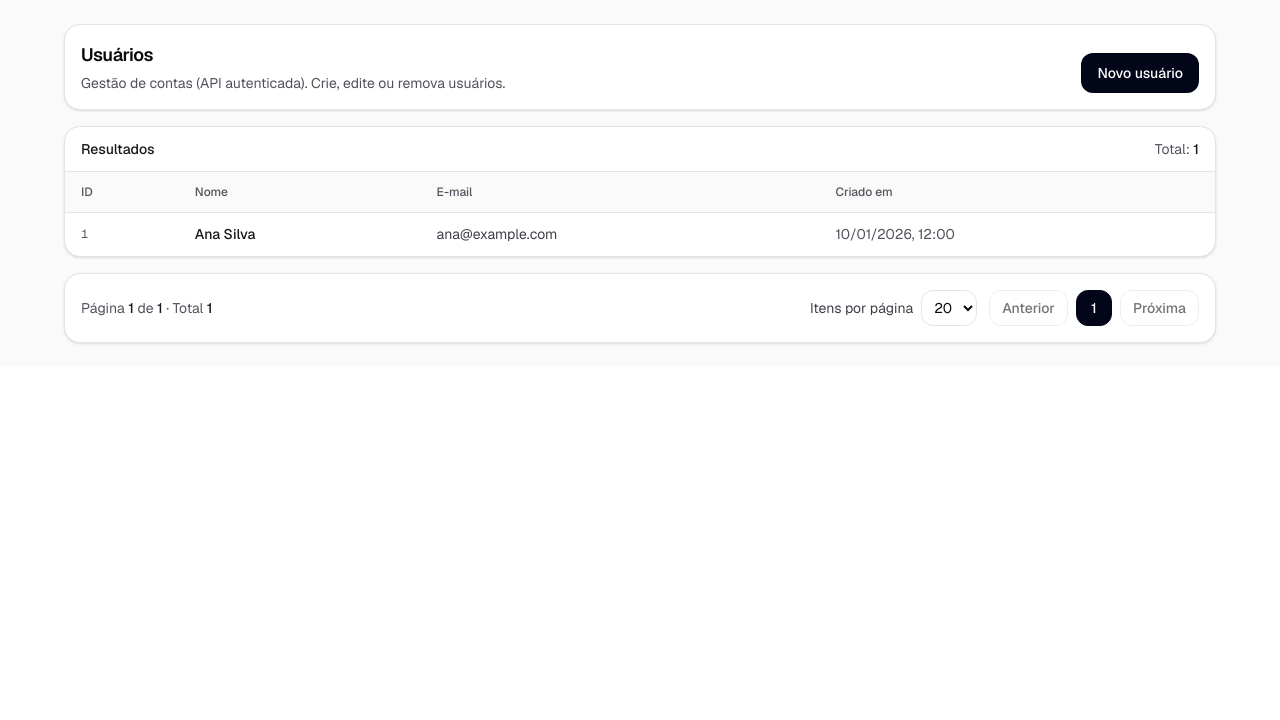
it: UsersPage (UI) › deve editar usuário a partir do detalhe
Click the text "Ana Silva" at (225, 234), box [179,212,421,256]
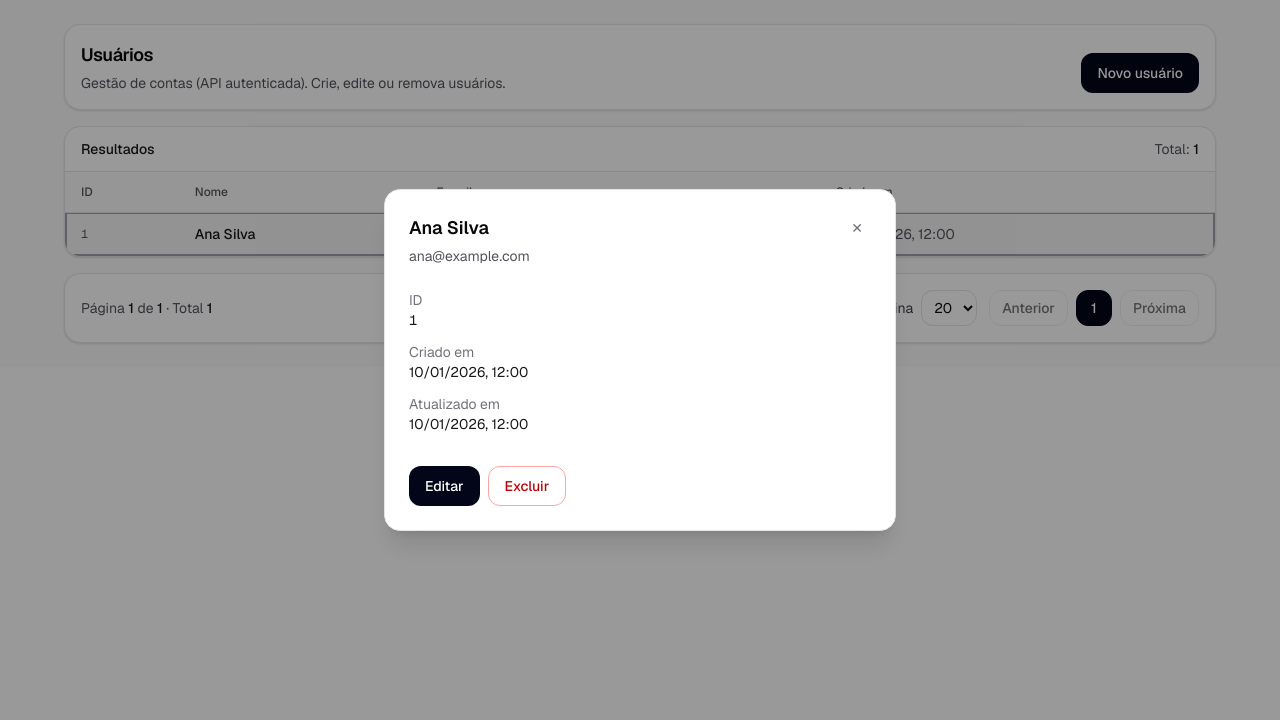
Click the button "Editar" at (444, 486), box [409,466,480,506]
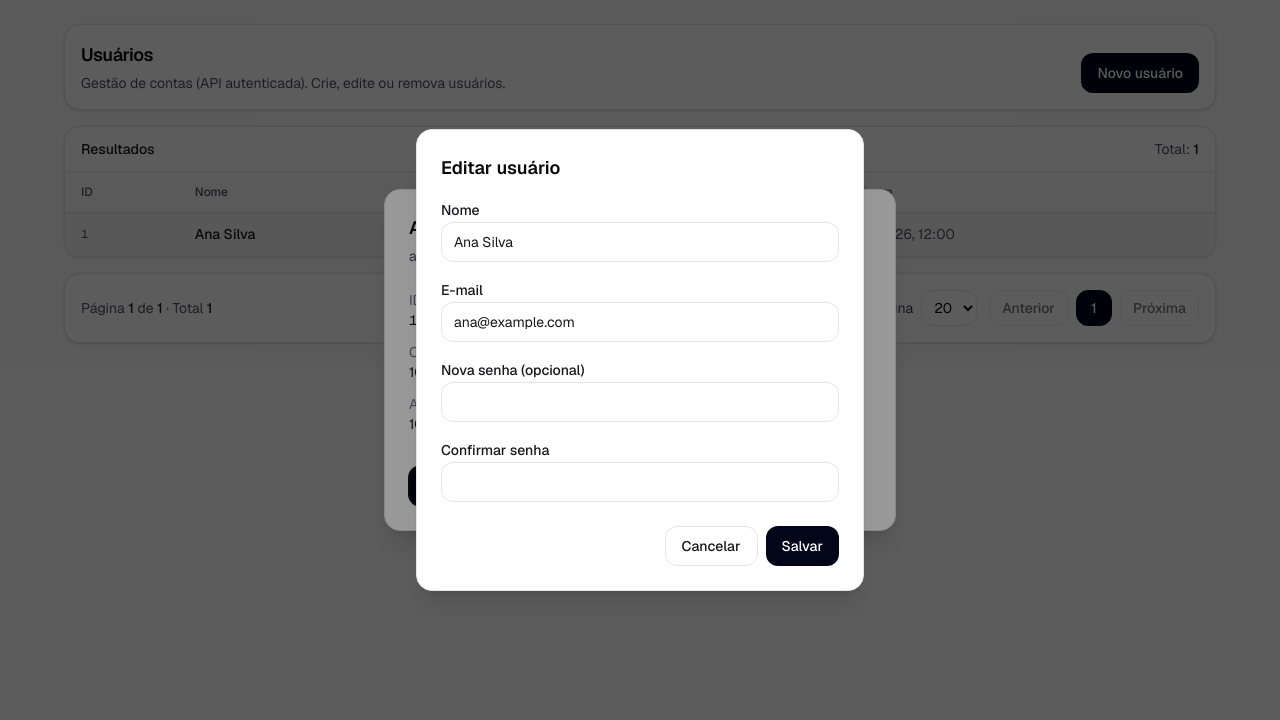
Replace the text in the field labelled "Nome" with "Ana Atualizada" at (640, 242), box [441,222,839,262]
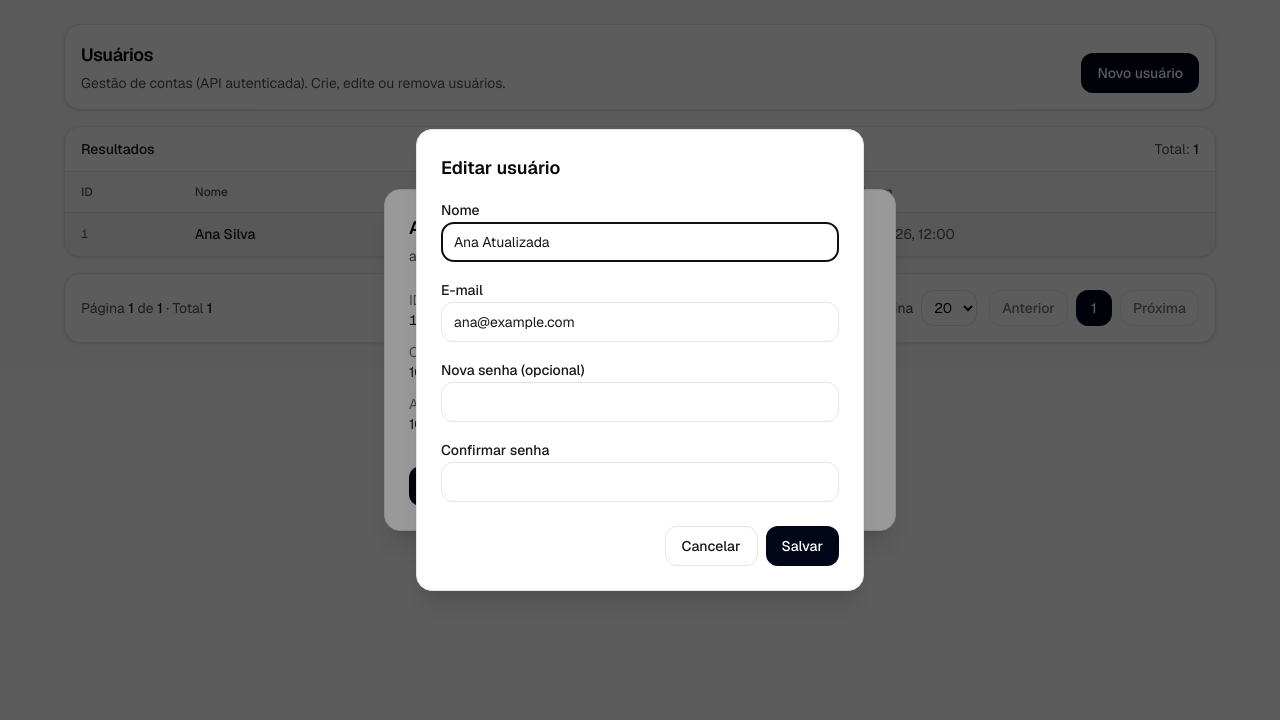
Click the button "Salvar" at (802, 546), box [766,526,839,566]
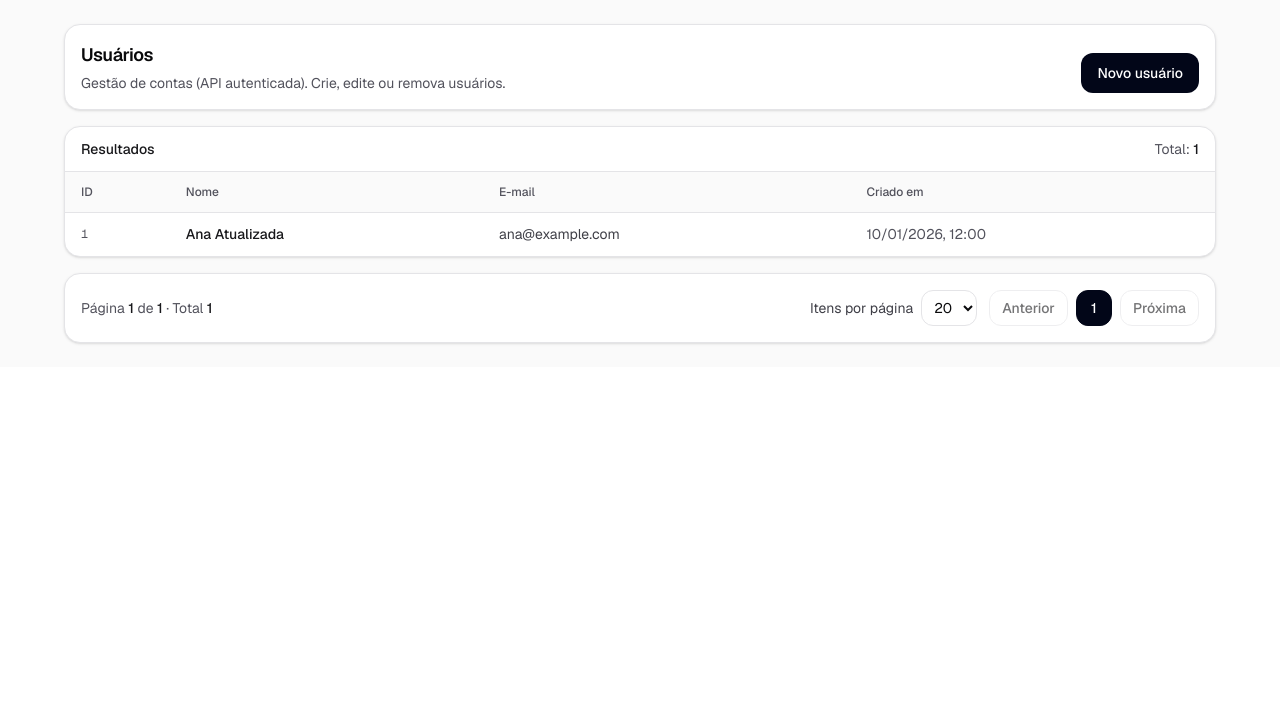
Check: the heading "Editar usuário" is gone
Check: the text "Ana Atualizada" is shown, box [170,212,483,256]
